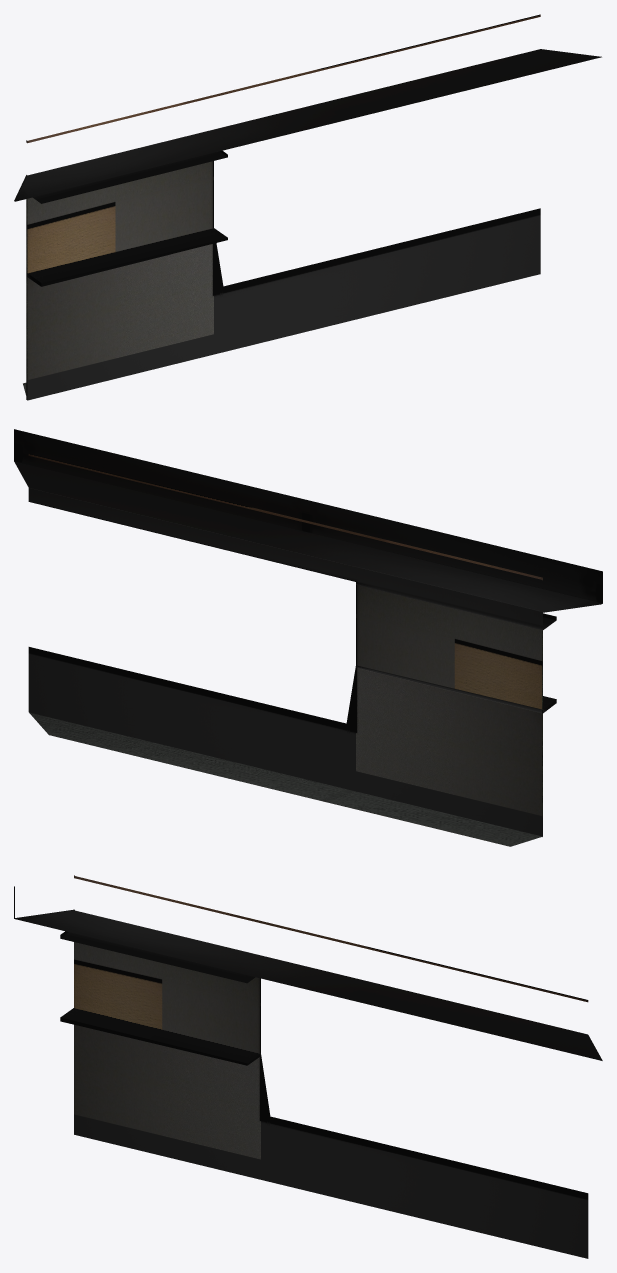
Rendered from window wall.obj.
3 views of the same model, one above another, from view 1: azimuth 30°, elevation 25°; view 2: azimuth 150°, elevation 25°; view 3: azimuth 330°, elevation 25° (orthographic).
Parts seen in each view (by area): view 1: Plane; view 2: Plane; view 3: Plane.
Part boxes in pixels (bbox=[...]): Plane: bbox=[14, 14, 601, 400]; Plane: bbox=[14, 429, 602, 846]; Plane: bbox=[14, 875, 602, 1258].
Size of the model in its own units: 8.41 by 3.54 by 1.07.
7 materials, 7 textured.
